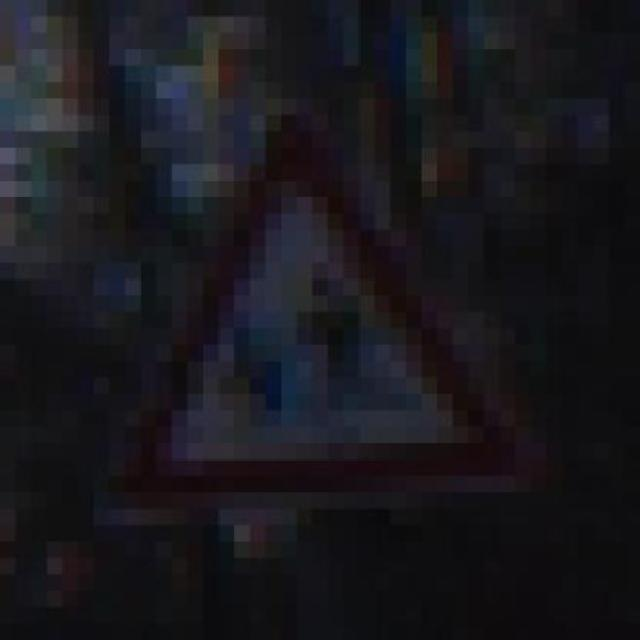Beware of children: (124, 114, 516, 526)
